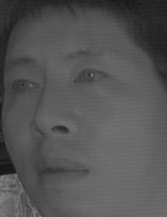eye: (72, 63, 110, 91), (8, 75, 40, 99)
mouth: (30, 151, 90, 191)
